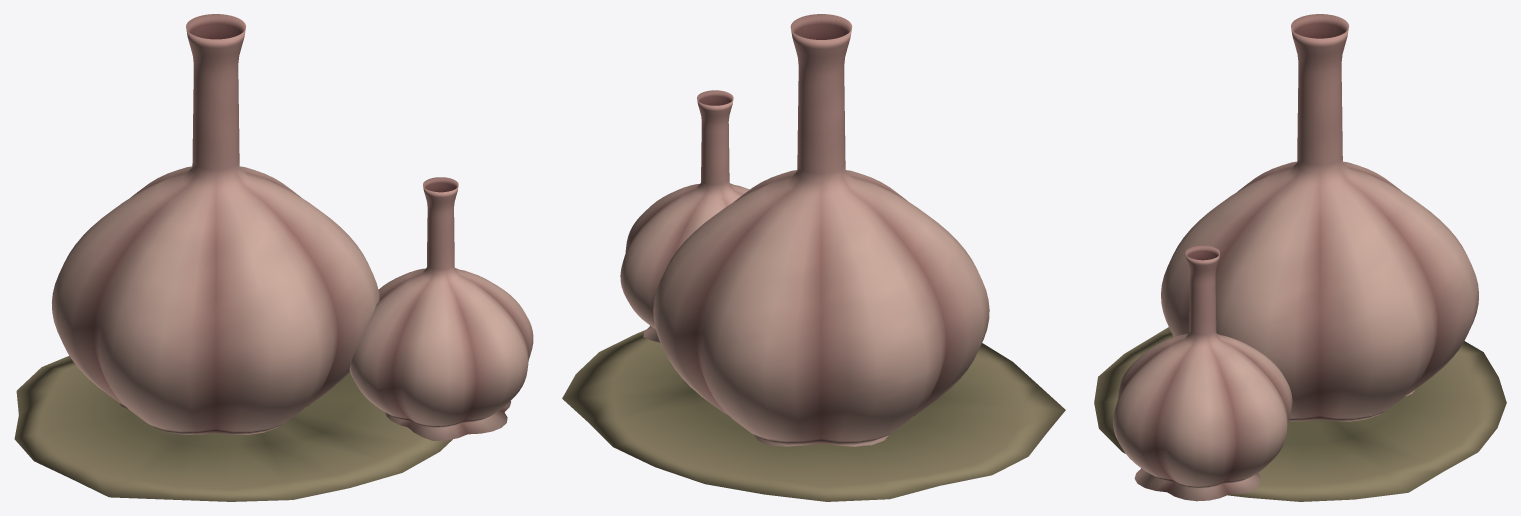
Rendered from Inaria.fbx.
3 renders of one model, left to right at view 1: azimuth 30°, elevation 25°; view 2: azimuth 150°, elevation 25°; view 3: azimuth 270°, elevation 25°, orthographic. The views are drawn at different scales.
Parts seen in each view (by area): view 1: Inaria; view 2: Inaria; view 3: Inaria.
Boxes of the visible parts, bbox=[...] form: Inaria: bbox=[14, 14, 533, 501]; Inaria: bbox=[562, 14, 1065, 501]; Inaria: bbox=[1094, 14, 1506, 501].
Size of the model in its own units: 1.26 by 1.04 by 1.06.
